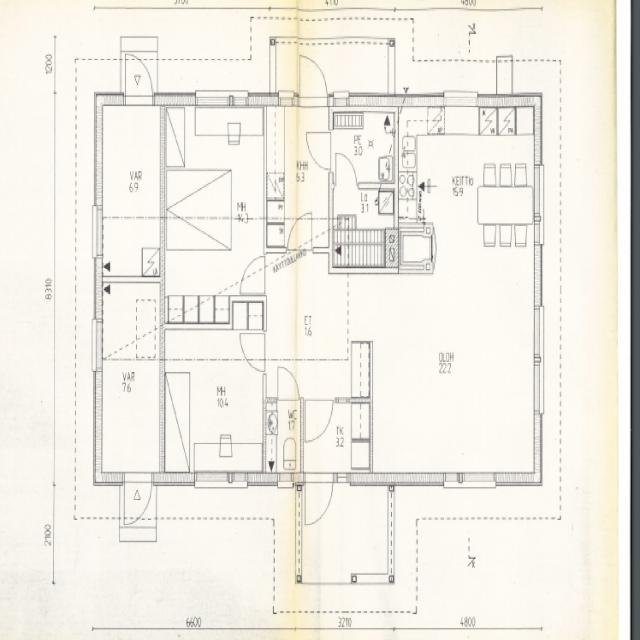door: (264, 396, 301, 482), (300, 469, 336, 530), (120, 469, 156, 530), (296, 49, 331, 108), (122, 49, 157, 108), (302, 394, 335, 446), (304, 127, 335, 174), (238, 328, 268, 374), (238, 252, 268, 297), (332, 148, 358, 189), (274, 362, 300, 403)
window: (192, 467, 250, 492), (446, 467, 500, 491), (193, 87, 244, 109), (530, 353, 547, 418), (88, 202, 105, 266), (530, 302, 547, 364), (89, 315, 105, 373), (441, 86, 479, 108), (532, 163, 546, 220), (532, 213, 545, 247)
zone: (353, 230, 538, 480), (163, 100, 267, 325), (398, 99, 538, 236), (164, 326, 267, 481), (94, 271, 165, 482), (95, 97, 164, 285), (267, 104, 331, 253), (332, 106, 397, 186), (332, 187, 394, 270), (264, 396, 301, 483), (398, 227, 434, 274)
